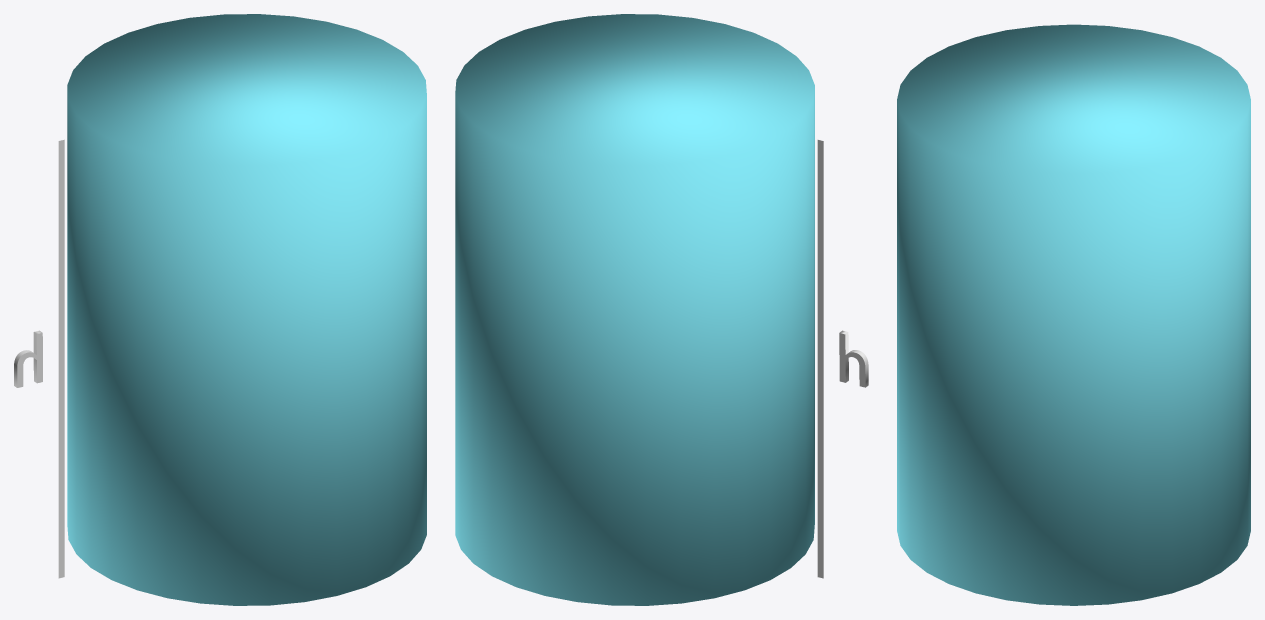
The picture shows the model from 3 angles, left to right: view 1: azimuth 30°, elevation 25°; view 2: azimuth 150°, elevation 25°; view 3: azimuth 270°, elevation 25°; orthographic projection.
Parts seen in each view (by area): view 1: Cylinder.002, Cylinder.003, H; view 2: Cylinder.002, Cylinder.003, H; view 3: Cylinder.002.
Boxes of the visible parts, bbox=[...] form: Cylinder.002: bbox=[67, 14, 426, 605]; Cylinder.003: bbox=[58, 139, 64, 578]; H: bbox=[14, 330, 42, 387]; Cylinder.002: bbox=[455, 14, 814, 605]; Cylinder.003: bbox=[817, 140, 823, 578]; H: bbox=[839, 330, 868, 387]; Cylinder.002: bbox=[897, 24, 1250, 605].
Bounding box in the file's own units: 2.6 × 2.83 × 2.09.
